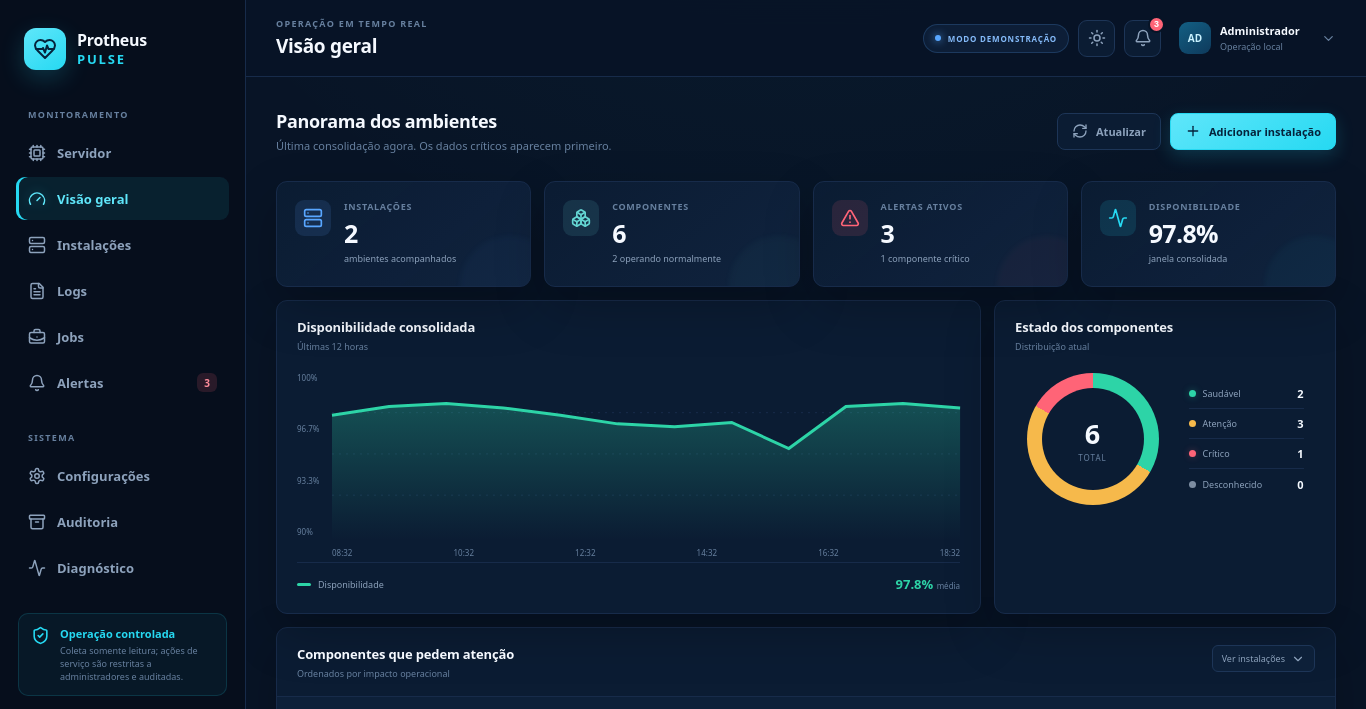
Test case: App › mostra na auditoria os eventos que o servidor devolve
Expected: the heading "Panorama dos ambientes" is shown, [276, 109, 497, 133]
What coordinates should you click on to do the following:
click the button "Auditoria"
I would click on:
 (122, 522)
Its box is [16, 500, 229, 543].
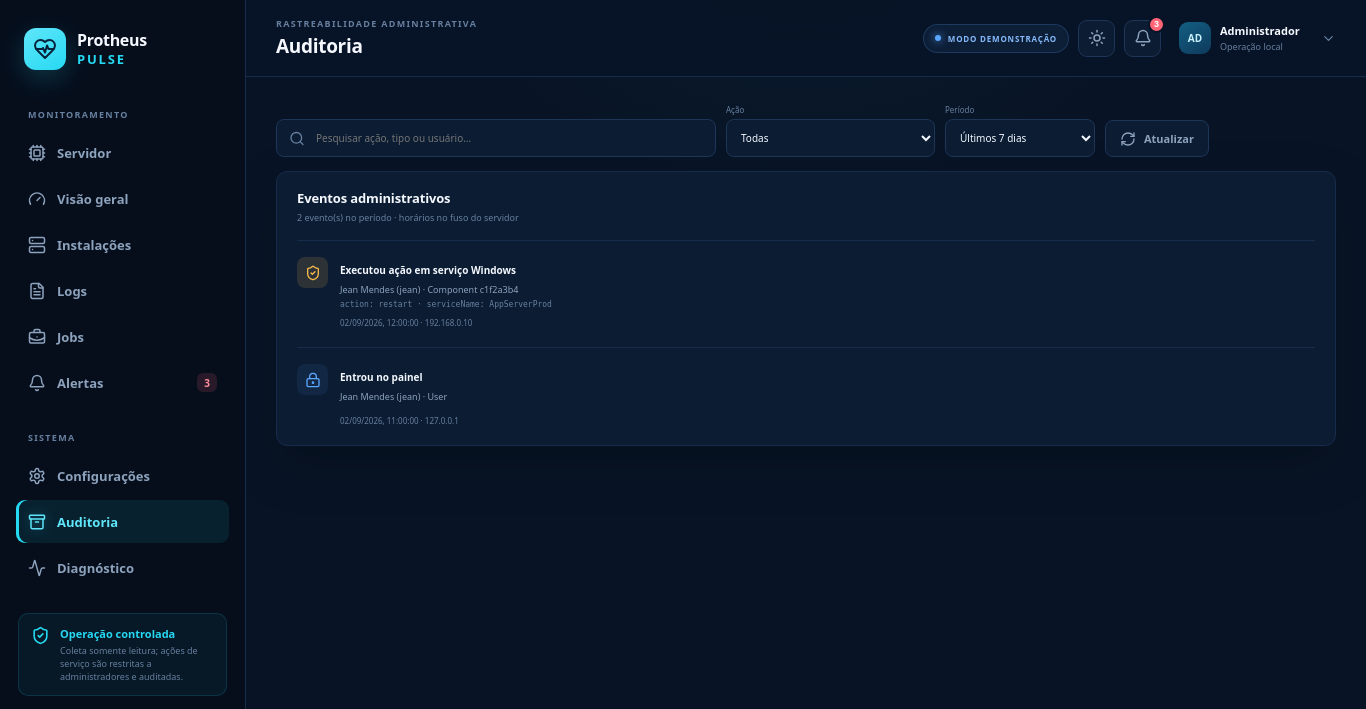
Expected: the text "Executou ação em serviço Windows" is shown, [340, 263, 516, 277]
Expected: the text "Entrou no painel" is shown, [340, 370, 422, 384]
Expected: the text "Jean Mendes (jean) · Component c1f2a3b4" is shown 2 times, [340, 283, 518, 296]; [340, 390, 459, 403]
